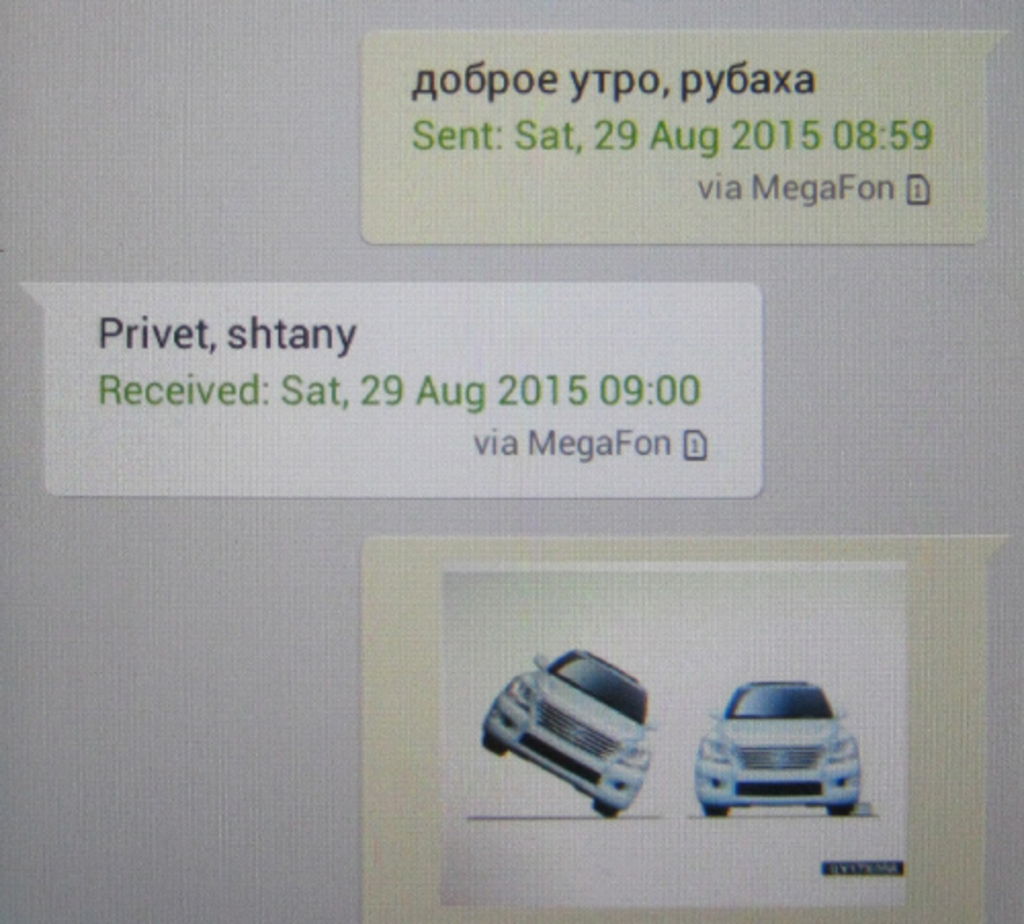Car: (479, 647, 657, 817), (694, 682, 862, 817)
